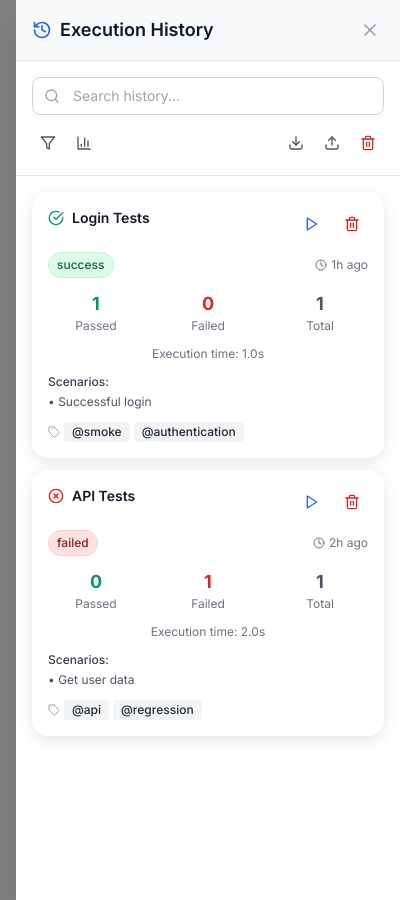
Test: HistoryPanel › Control buttons › should toggle filters panel
The image size is (400, 900).
Click the button titled "Filters" at (48, 143), box [32,127,64,159]
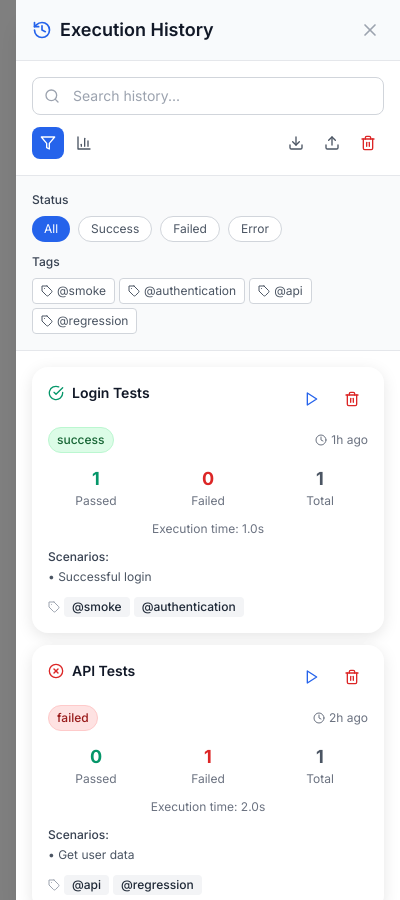
Check: the text "Status" is shown, box [32,192,68,207]
